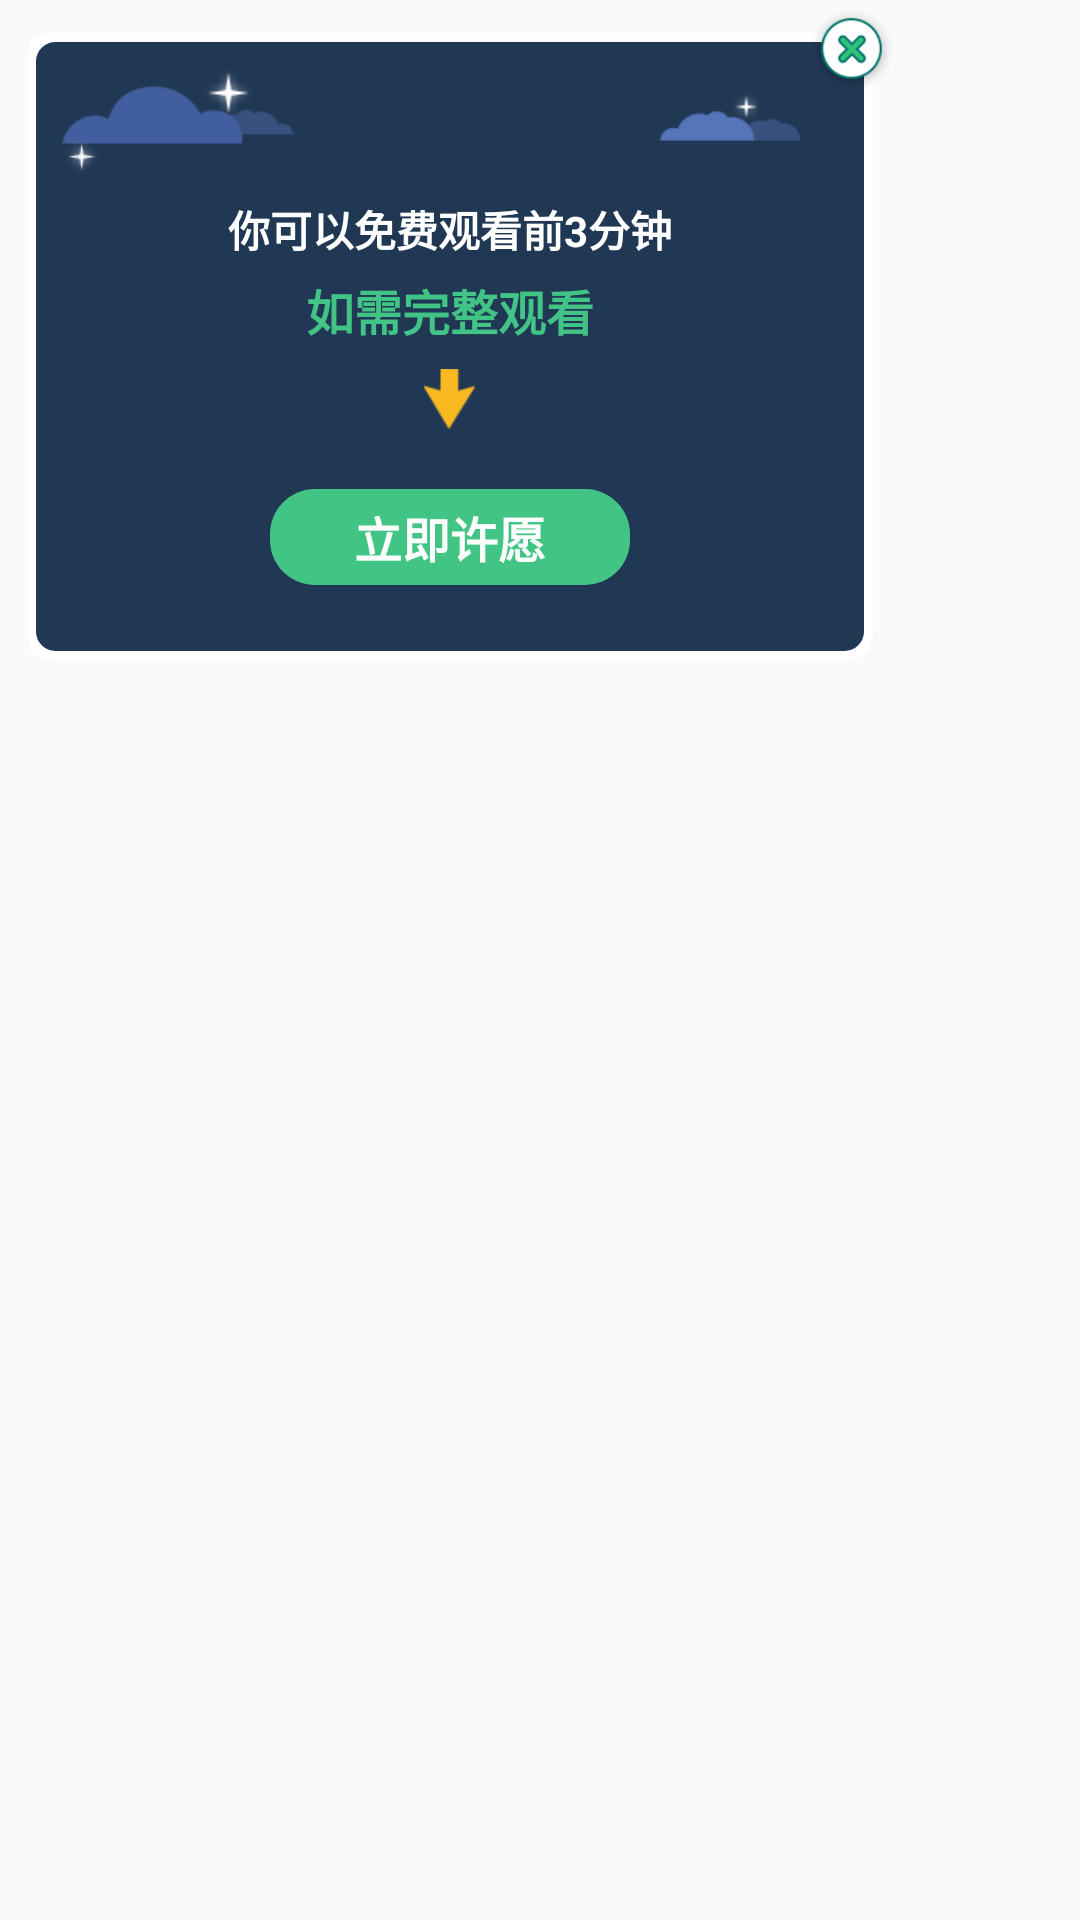

Point at icon controls on the screen. Image size 1080x1920, points as [x,y].
arrow: [449,399]
delete: [847,54]
